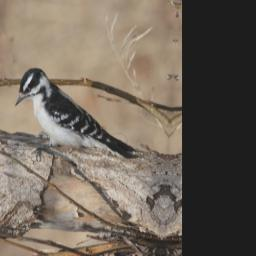Woodpecker: (11, 65, 147, 172)
